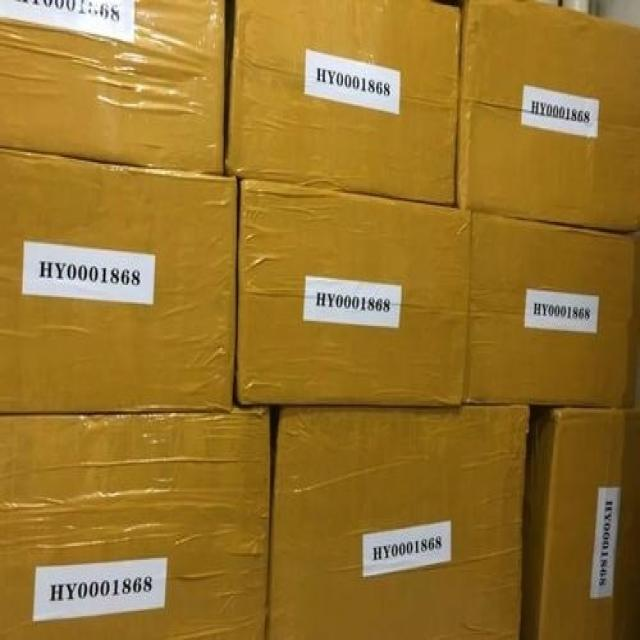box: (0, 407, 276, 638), (2, 149, 238, 411), (271, 408, 531, 638), (236, 177, 472, 407), (229, 1, 462, 205), (457, 1, 638, 232), (0, 1, 230, 170), (464, 210, 637, 408), (521, 404, 639, 637), (625, 230, 639, 407)
